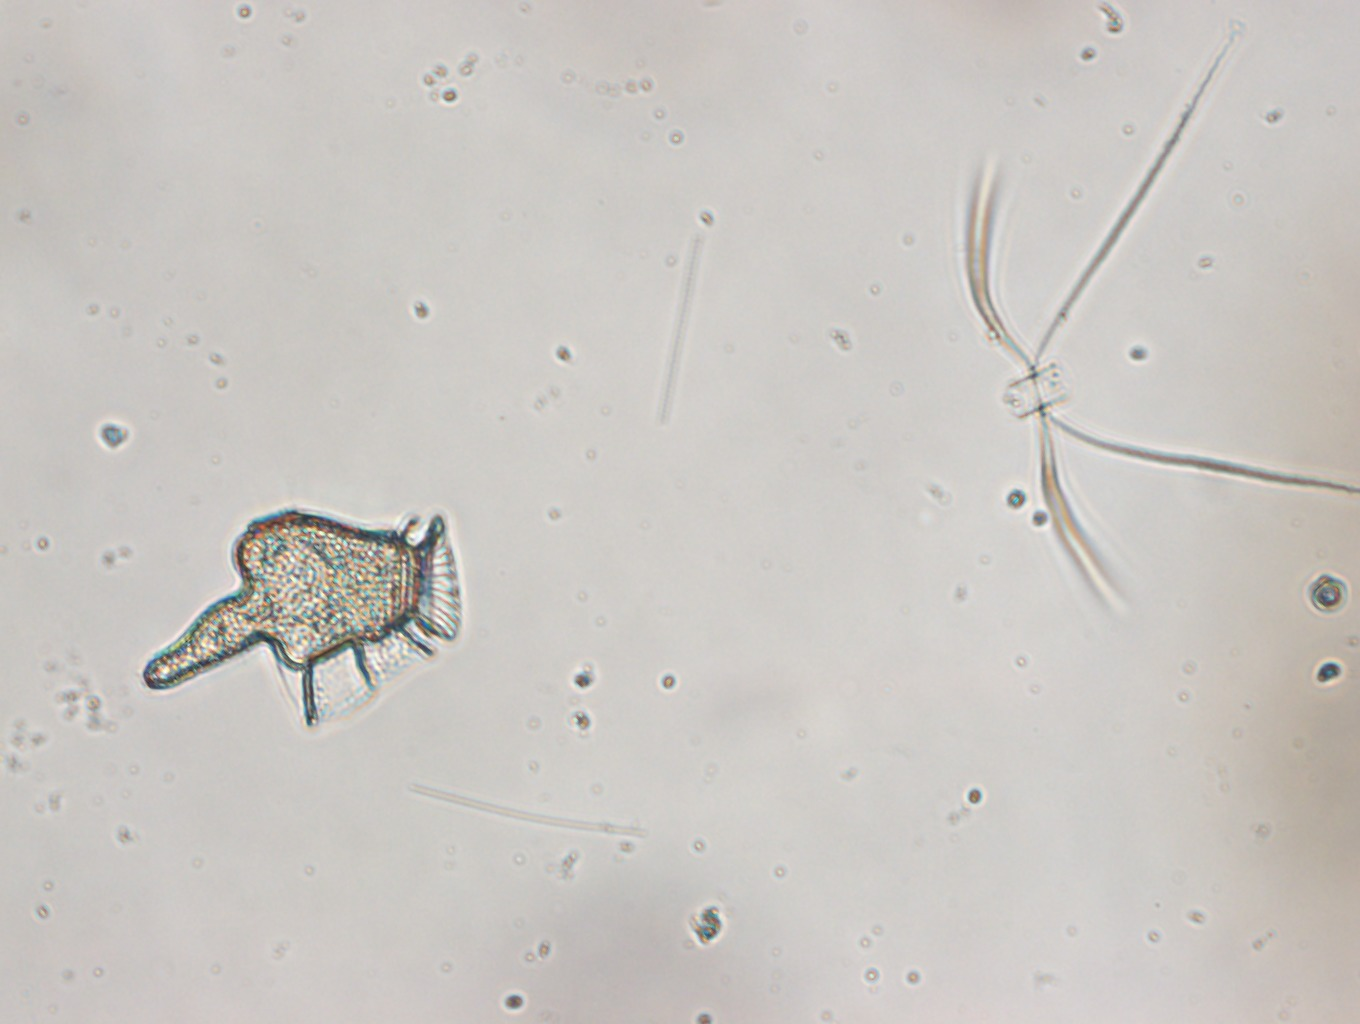chaetoceros: (957, 29, 1360, 610)
dinophysis caudata: (141, 506, 462, 727)
